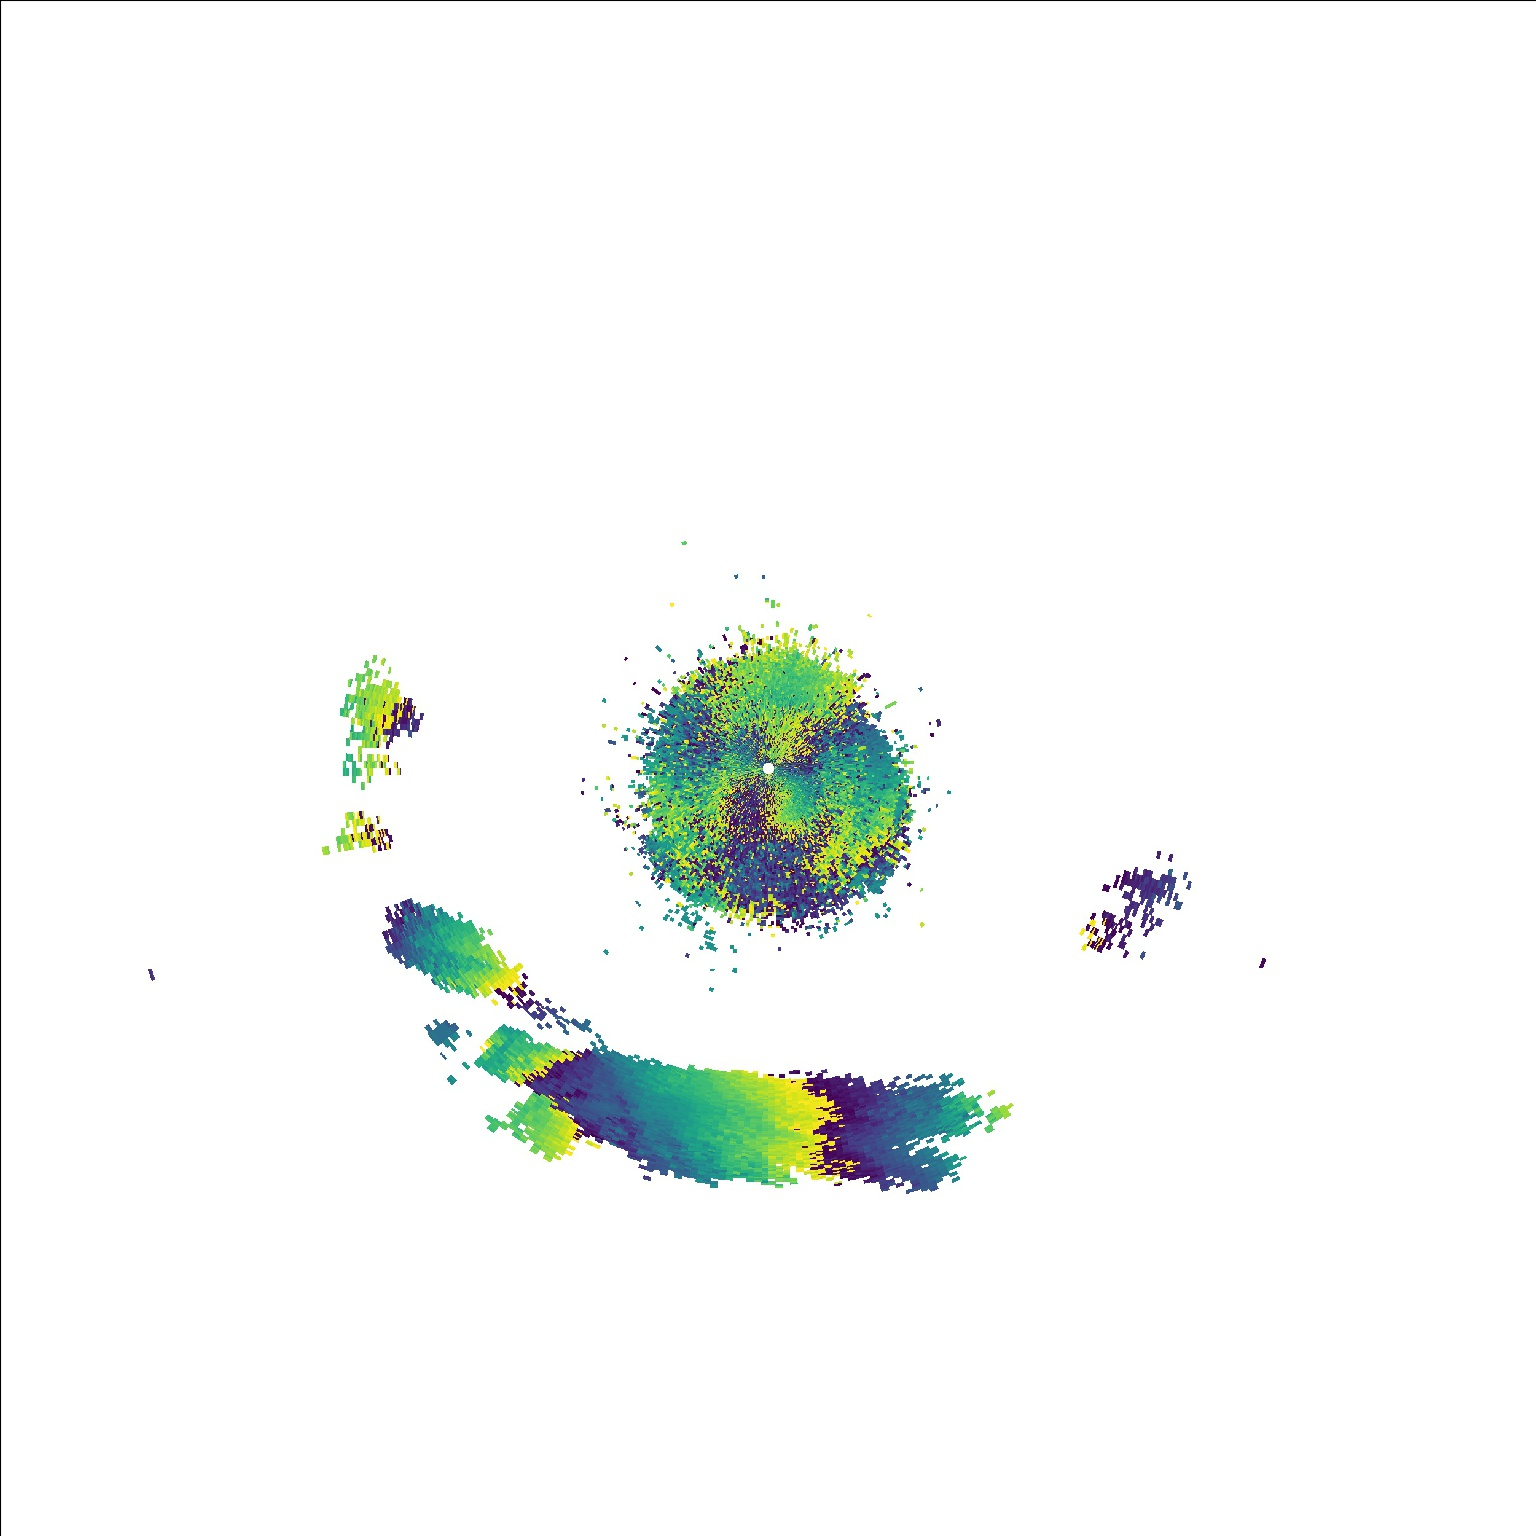fall: (301, 639, 437, 798), (302, 805, 423, 864)
